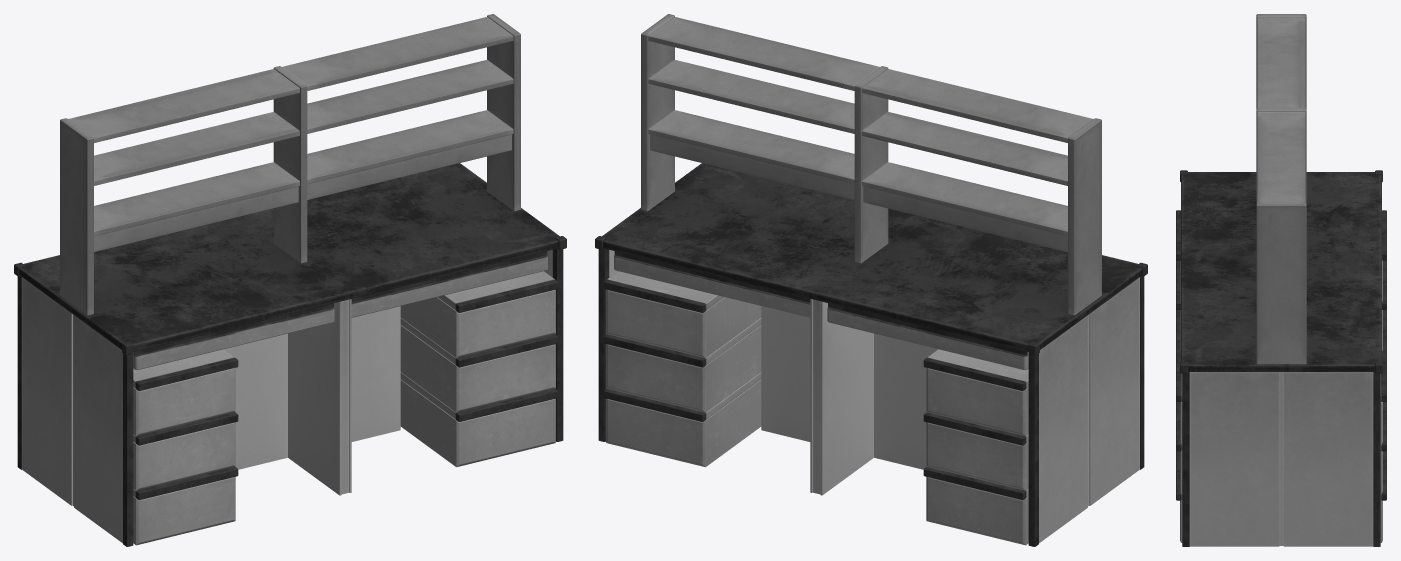
File: Table.fbx
3 views of the same model, side by side, from view 1: azimuth 30°, elevation 25°; view 2: azimuth 150°, elevation 25°; view 3: azimuth 270°, elevation 25° (orthographic). The views are drawn at different scales.
Visible parts, largest first — view 1: Table_01; view 2: Table_01; view 3: Table_01.
Boxes of the visible parts, x1,y1,x2,y2 form: Table_01: (14, 14, 566, 546); Table_01: (595, 14, 1147, 546); Table_01: (1176, 14, 1386, 546).
Size of the model in its own units: 184 by 150 by 84.
